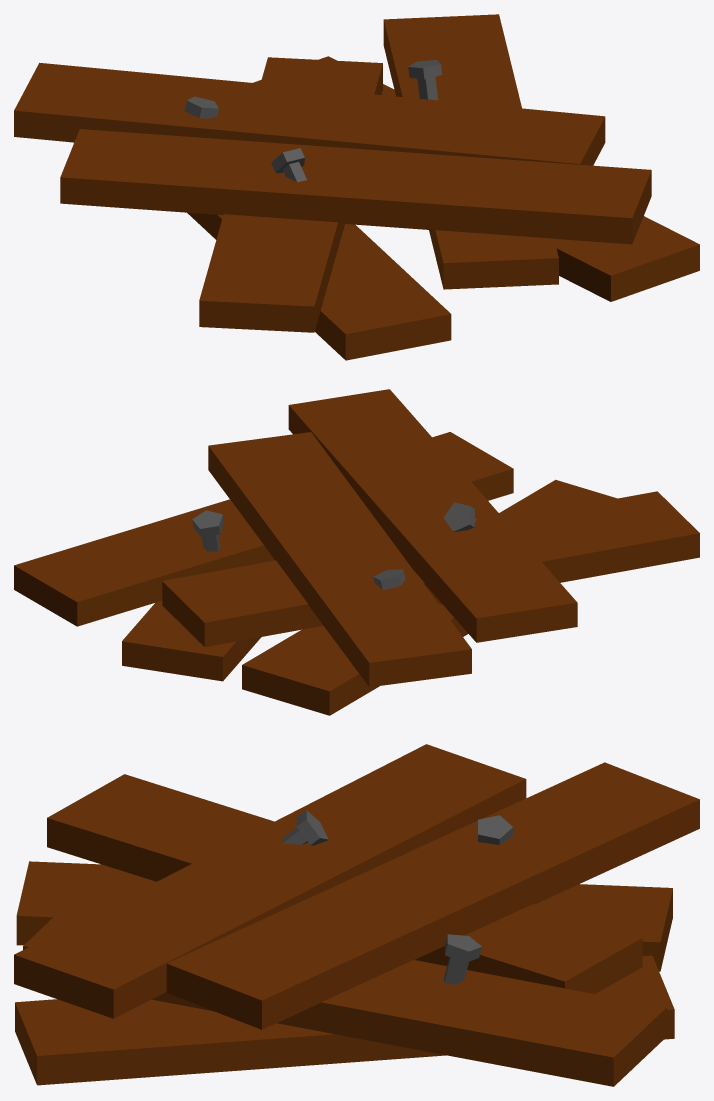
The model's file is woodplanks_1.fbx.
The picture shows the model from 3 angles, top to bottom: view 1: azimuth 30°, elevation 25°; view 2: azimuth 150°, elevation 25°; view 3: azimuth 270°, elevation 25°; orthographic projection. The views are drawn at different scales.
Parts seen in each view (by area): view 1: Cube.005, Cube.004, Cube.001, Cube.003, Cube, Cube.002, Cylinder, Cylinder.001, Cylinder.002; view 2: Cube.004, Cube.005, Cube.001, Cube.003, Cube, Cube.002, Cylinder, Cylinder.001, Cylinder.002; view 3: Cube.004, Cube.005, Cube.003, Cube.001, Cube.002, Cube, Cylinder, Cylinder.001, Cylinder.002.
Part boxes in pixels (<box>): Cube.005: <box>60,129,651,244</box>; Cube.004: <box>14,62,605,165</box>; Cube.001: <box>199,57,382,332</box>; Cube.003: <box>383,14,558,289</box>; Cube: <box>187,212,451,360</box>; Cube.002: <box>253,56,699,301</box>; Cylinder: <box>408,60,442,100</box>; Cylinder.001: <box>271,148,306,182</box>; Cylinder.002: <box>184,96,218,118</box>; Cube.004: <box>208,432,471,687</box>; Cube.005: <box>288,389,577,642</box>; Cube.001: <box>162,491,699,646</box>; Cube.003: <box>14,432,513,626</box>; Cube: <box>242,479,617,715</box>; Cube.002: <box>122,601,261,681</box>; Cylinder: <box>192,510,223,551</box>; Cylinder.001: <box>444,502,476,531</box>; Cylinder.002: <box>373,569,405,589</box>; Cube.004: <box>166,762,699,1029</box>; Cube.005: <box>14,744,526,1018</box>; Cube.003: <box>23,896,666,1086</box>; Cube.001: <box>47,774,642,993</box>; Cube.002: <box>15,955,674,1085</box>; Cube: <box>16,861,672,971</box>; Cylinder: <box>444,934,481,984</box>; Cylinder.001: <box>282,810,328,845</box>; Cylinder.002: <box>478,815,513,844</box>.
Bounding box in the file's own units: 104 × 21 × 106.
